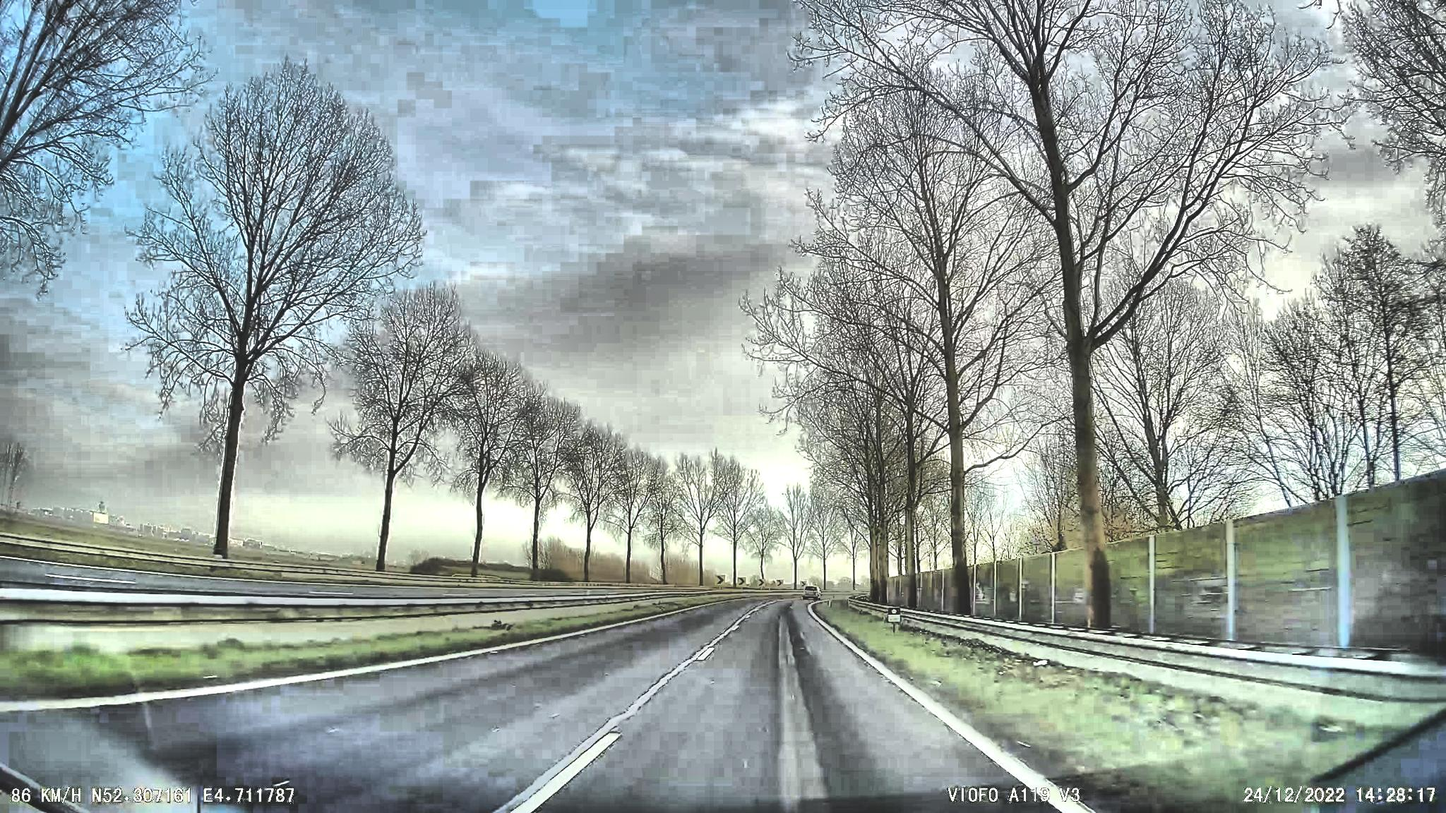Roads: (0, 601, 1066, 813)
